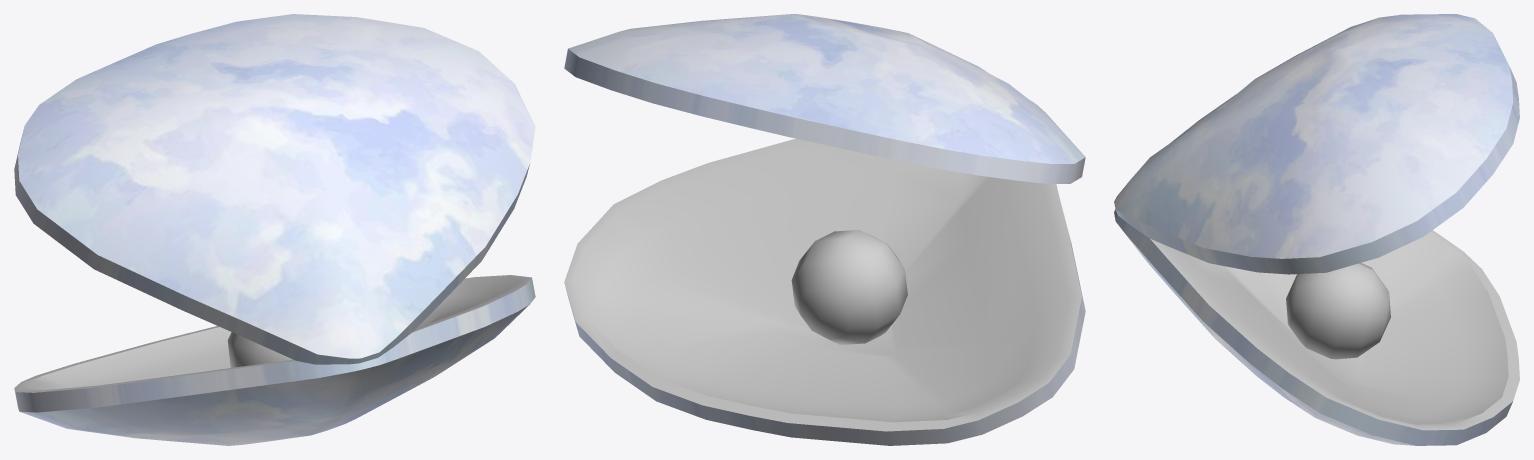
The model's file is Cloud Clam.fbx.
The picture shows the model from 3 angles, left to right: view 1: azimuth 30°, elevation 25°; view 2: azimuth 150°, elevation 25°; view 3: azimuth 270°, elevation 25°; orthographic projection. The views are drawn at different scales.
Parts seen in each view (by area): view 1: Plane.002, Sphere; view 2: Plane.002, Sphere; view 3: Plane.002, Sphere.
Boxes of the visible parts, left/top/right/bottom form: Plane.002: left=14, top=14, right=535, bottom=445; Sphere: left=227, top=332, right=292, bottom=367; Plane.002: left=564, top=14, right=1085, bottom=445; Sphere: left=791, top=230, right=907, bottom=344; Plane.002: left=1114, top=14, right=1519, bottom=445; Sphere: left=1286, top=263, right=1390, bottom=359.
Bounding box in the file's own units: 66.61 × 45.63 × 52.99.
